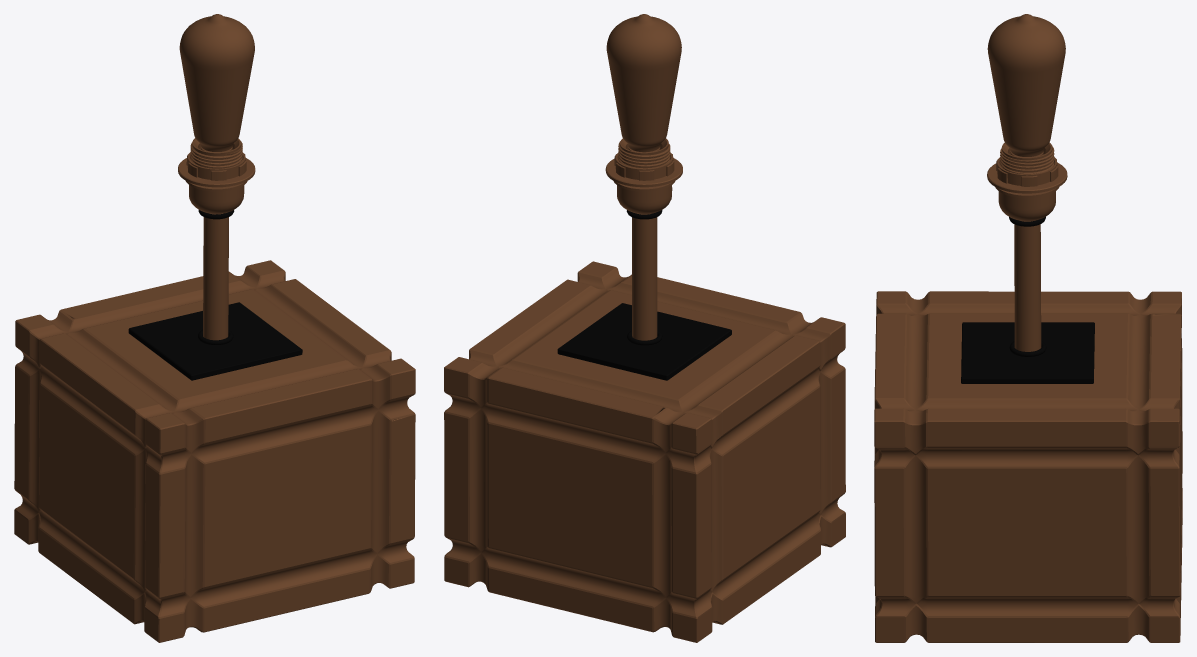
3 views of the same model, side by side, from view 1: azimuth 30°, elevation 25°; view 2: azimuth 150°, elevation 25°; view 3: azimuth 270°, elevation 25° (orthographic). The views are drawn at different scales.
Visible parts, largest first — view 1: base:polySurface98; view 2: base:polySurface98; view 3: base:polySurface98.
Part boxes in pixels (x1,y1,x2,y2): base:polySurface98: [14, 14, 415, 642]; base:polySurface98: [444, 14, 845, 642]; base:polySurface98: [874, 14, 1182, 642].
Bounding box in the file's own units: 0.7222 × 1.46 × 0.722.
6 materials, 2 textured.
